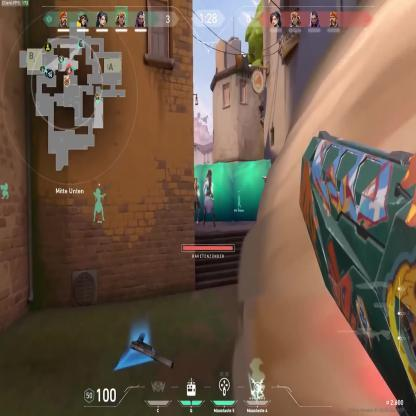enemy: (262, 164, 281, 234), (203, 170, 215, 229), (191, 176, 201, 227)
enemy_head: (206, 171, 211, 180), (194, 177, 198, 183)
